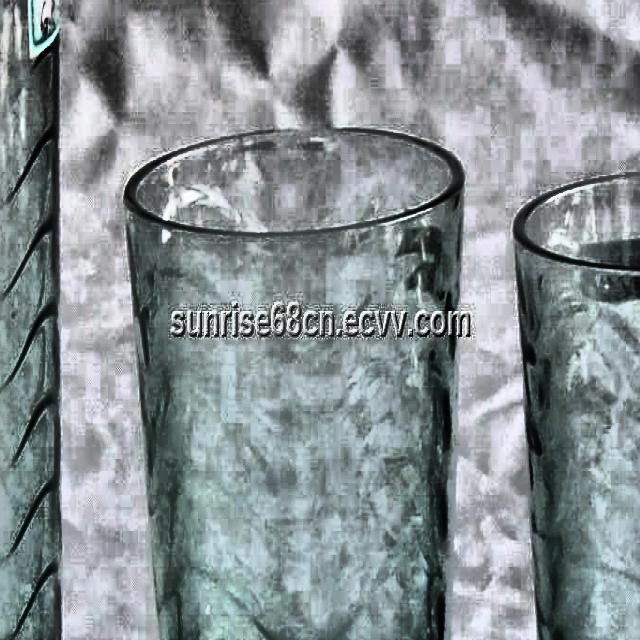glass: (114, 120, 464, 640), (510, 171, 640, 640)
